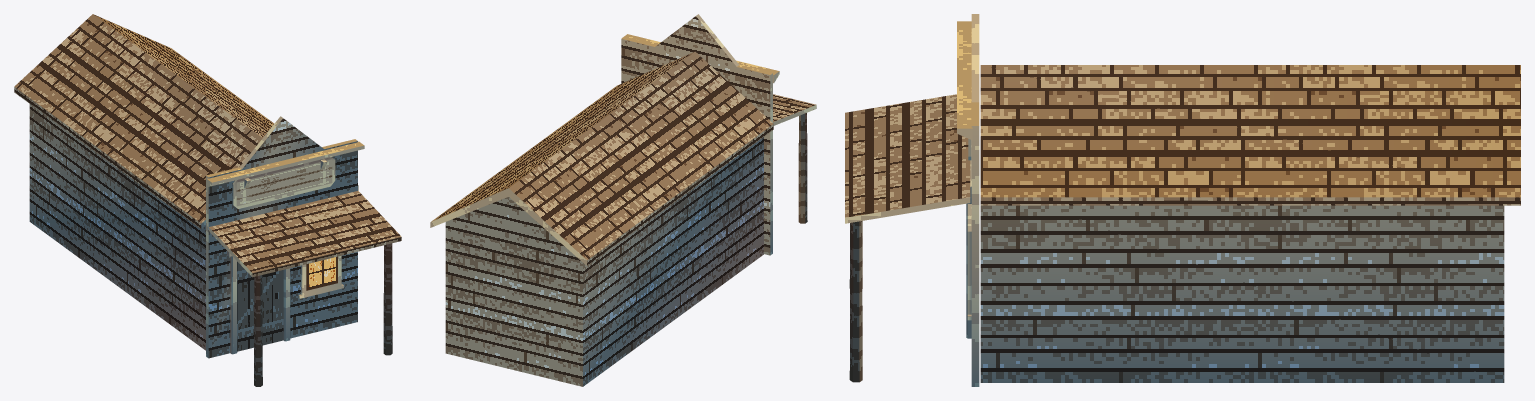
The model's file is wtown.sheriff__office.glb.
3 views of the same model, side by side, from view 1: azimuth 30°, elevation 25°; view 2: azimuth 150°, elevation 25°; view 3: azimuth 270°, elevation 25° (orthographic). The views are drawn at different scales.
Parts seen in each view (by area): view 1: kit_roof, kit_body, kit_front, kit_porch, kit_card_panes, kit_trim, kit_windows; view 2: kit_body, kit_roof, kit_front, kit_porch, kit_trim; view 3: kit_body, kit_roof, kit_porch, kit_front, kit_trim, kit_windows.
Boxes of the visible parts, x1=… form: kit_roof: x1=14, y1=14, x2=358, y2=229; kit_body: x1=29, y1=104, x2=205, y2=350; kit_front: x1=206, y1=116, x2=357, y2=358; kit_porch: x1=209, y1=190, x2=401, y2=386; kit_card_panes: x1=236, y1=159, x2=337, y2=351; kit_trim: x1=206, y1=141, x2=364, y2=354; kit_windows: x1=298, y1=255, x2=343, y2=298; kit_body: x1=445, y1=137, x2=763, y2=386; kit_roof: x1=430, y1=51, x2=773, y2=265; kit_front: x1=621, y1=14, x2=772, y2=255; kit_porch: x1=773, y1=94, x2=816, y2=223; kit_trim: x1=622, y1=34, x2=779, y2=83; kit_body: x1=980, y1=205, x2=1504, y2=382; kit_roof: x1=980, y1=65, x2=1520, y2=205; kit_porch: x1=845, y1=94, x2=970, y2=382; kit_front: x1=971, y1=14, x2=979, y2=386; kit_trim: x1=957, y1=21, x2=972, y2=338; kit_windows: x1=967, y1=204, x2=971, y2=320.
Size of the model in its own units: 4 by 5.4 by 10.32.
Materials: 7 (7 with a texture image).
